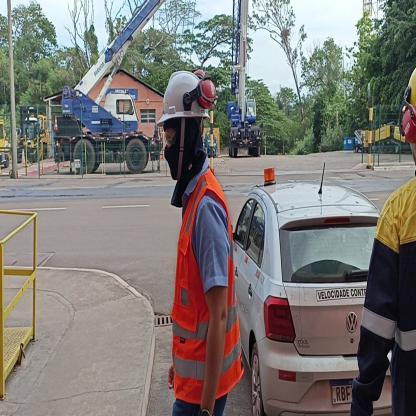Balaclava: (156, 119, 210, 190)
Capacete: (157, 66, 213, 126)
colete: (169, 184, 248, 402)
